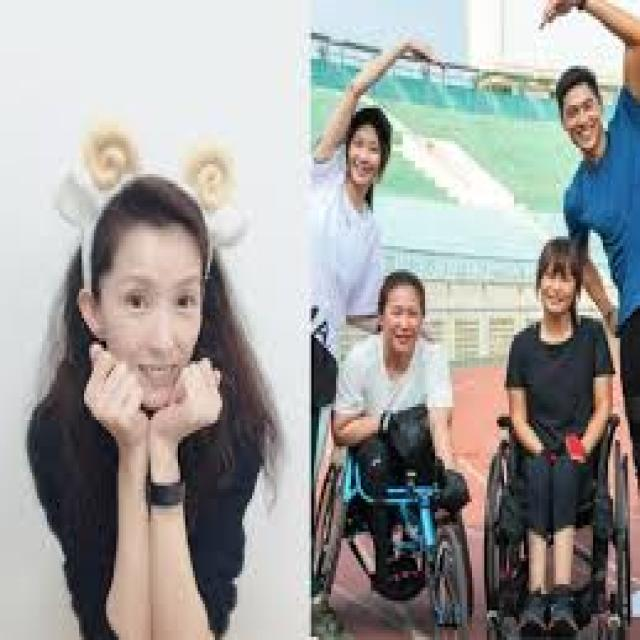wheelchairs: (482, 404, 635, 636), (314, 423, 474, 637)
